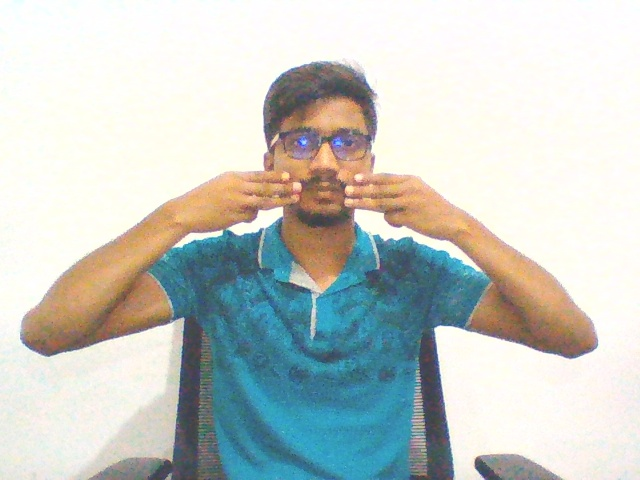cat: (150, 153, 480, 258)
